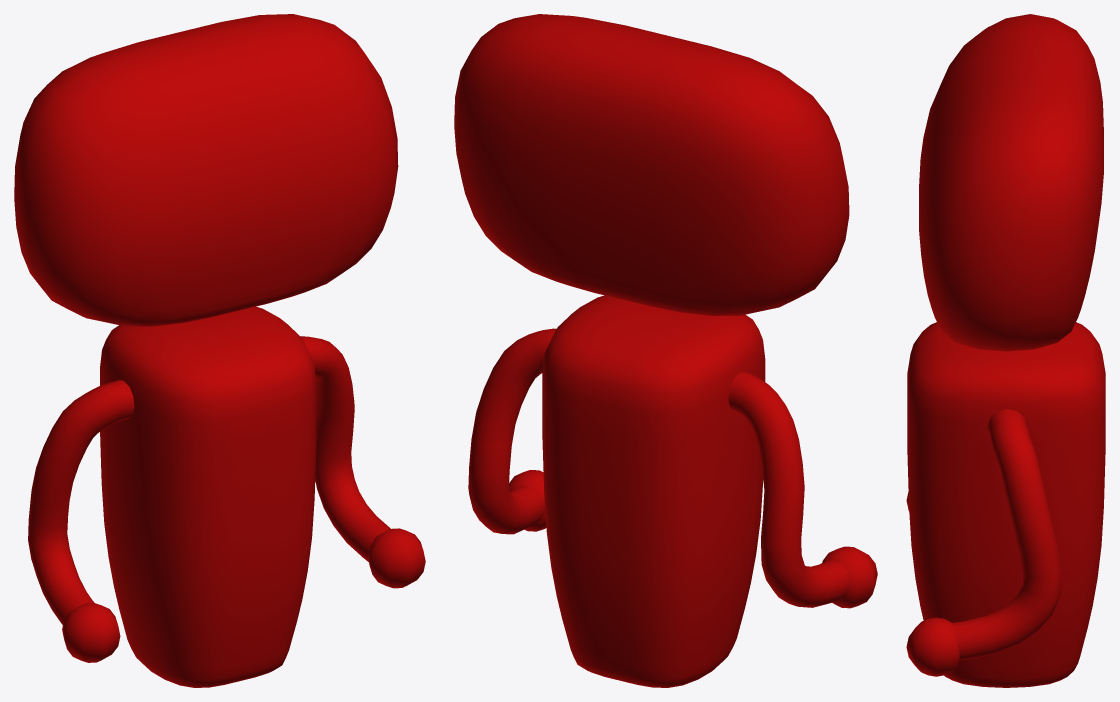
File: Robot5.fbx
The picture shows the model from 3 angles, left to right: view 1: azimuth 30°, elevation 25°; view 2: azimuth 150°, elevation 25°; view 3: azimuth 270°, elevation 25°; orthographic projection. The views are drawn at different scales.
Visible parts, largest first — view 1: Mesh; view 2: Mesh; view 3: Mesh.
Part boxes in pixels (box(x1,y1,x2,y2)): Mesh: box(14, 14, 425, 687); Mesh: box(454, 14, 877, 687); Mesh: box(906, 14, 1105, 687).
Size of the model in its own units: 207 by 336 by 100.
